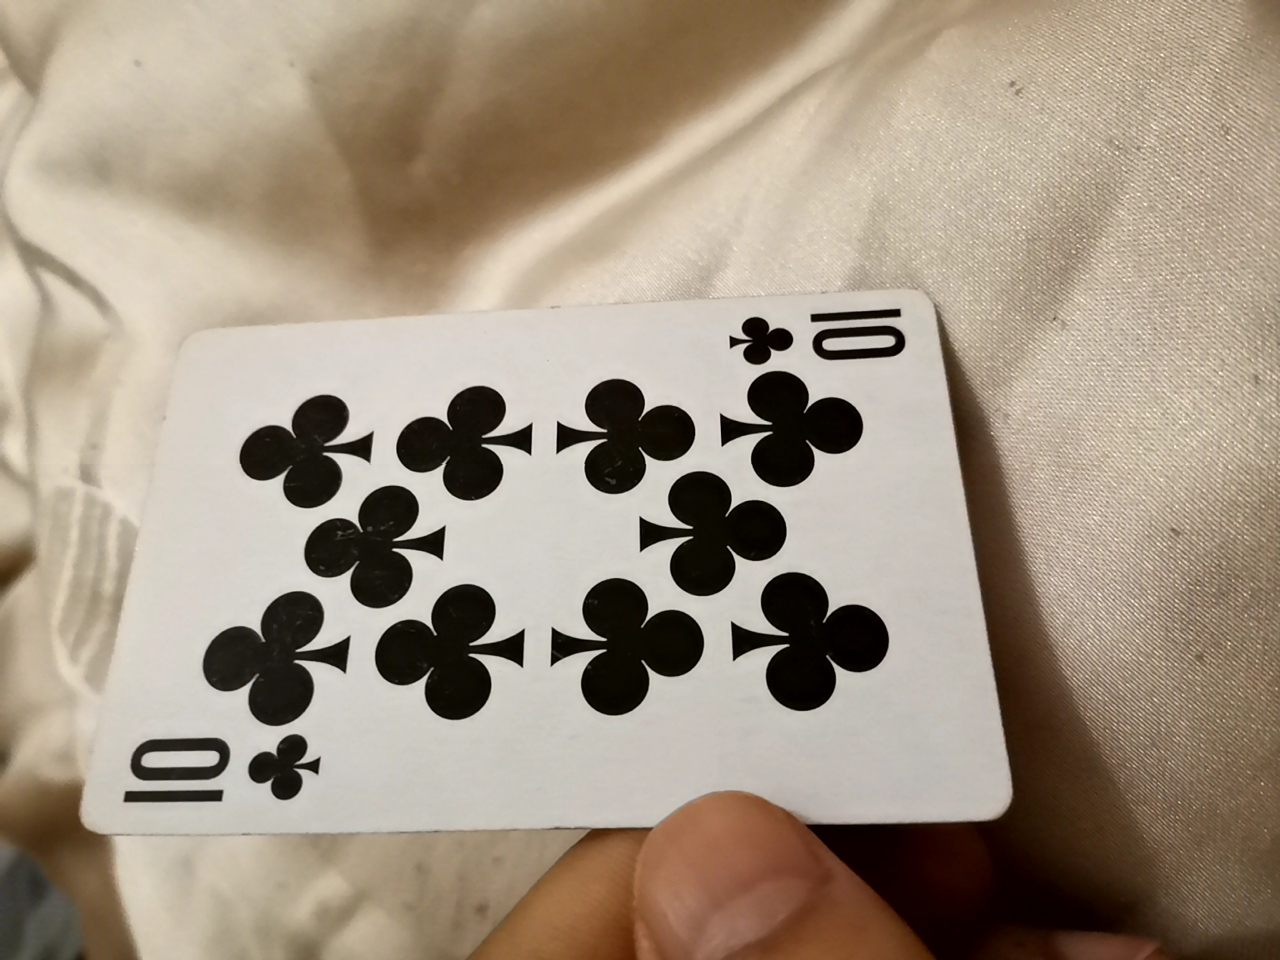mh 10: (92, 284, 997, 848)
